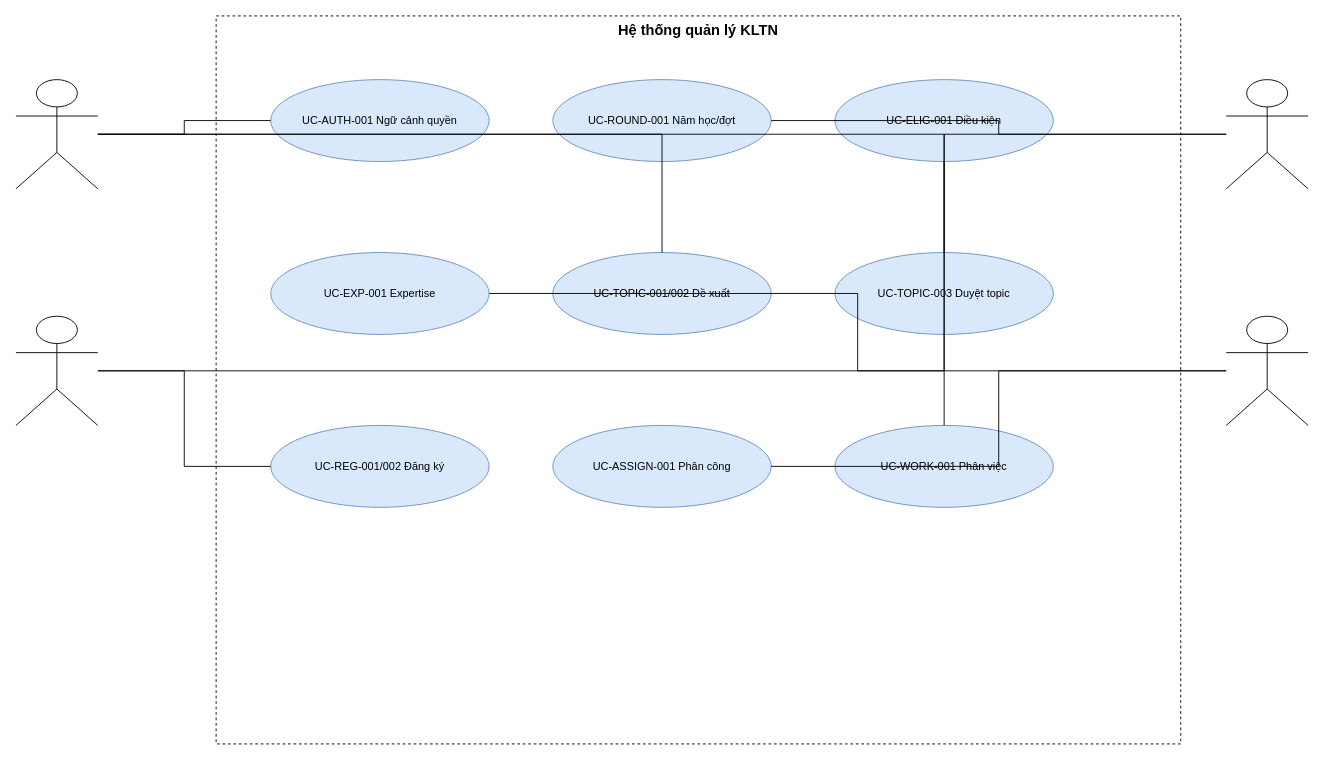
The diagram is 1324 pixels wide and 760 high, and some of its shapes have lost their labels. The centre of each missing label's shape, as x and y in pixels:
Giảng viên: (x=1266, y=134)
Sinh viên: (x=56, y=134)
TBM: (x=56, y=370)
Trưởng khoa: (x=1266, y=370)
